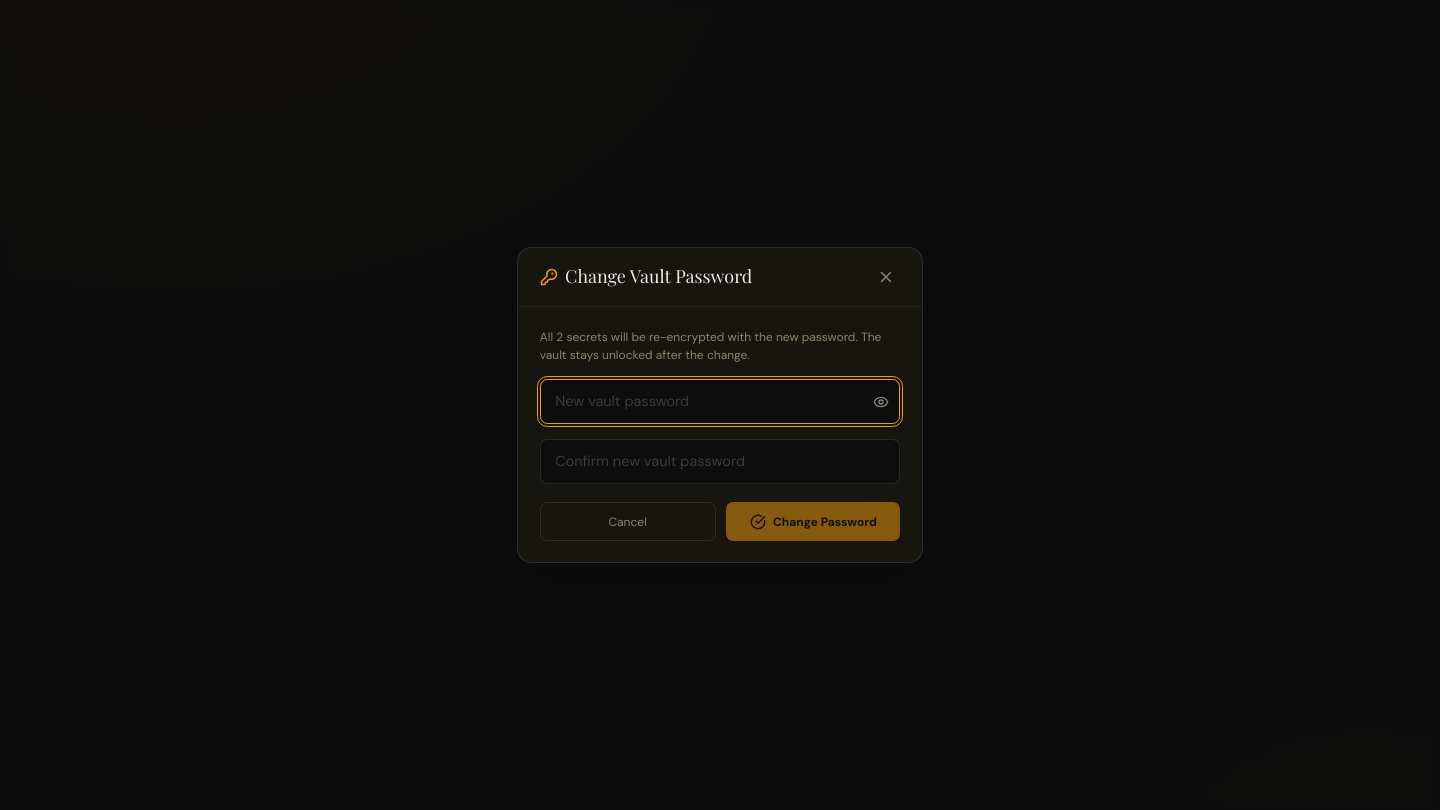
Test: VaultChangePassword Component › validates password length and match
// Too short
Type "short" into the password field with placeholder "New vault password".
click(720, 402); type("short")  # box [540,379,900,424]
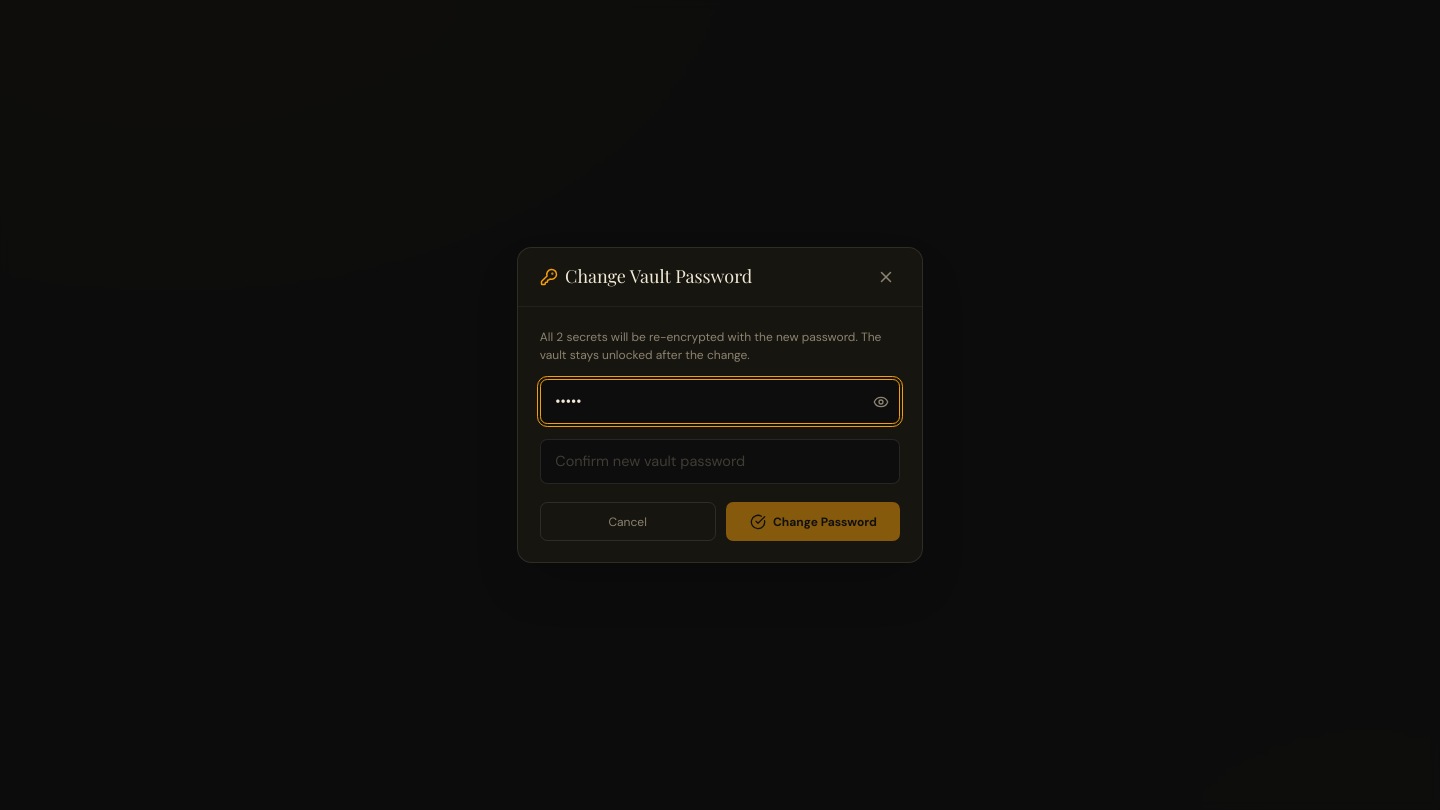
Type "short" into the password field with placeholder "Confirm new vault password".
click(720, 462); type("short")  # box [540,439,900,484]
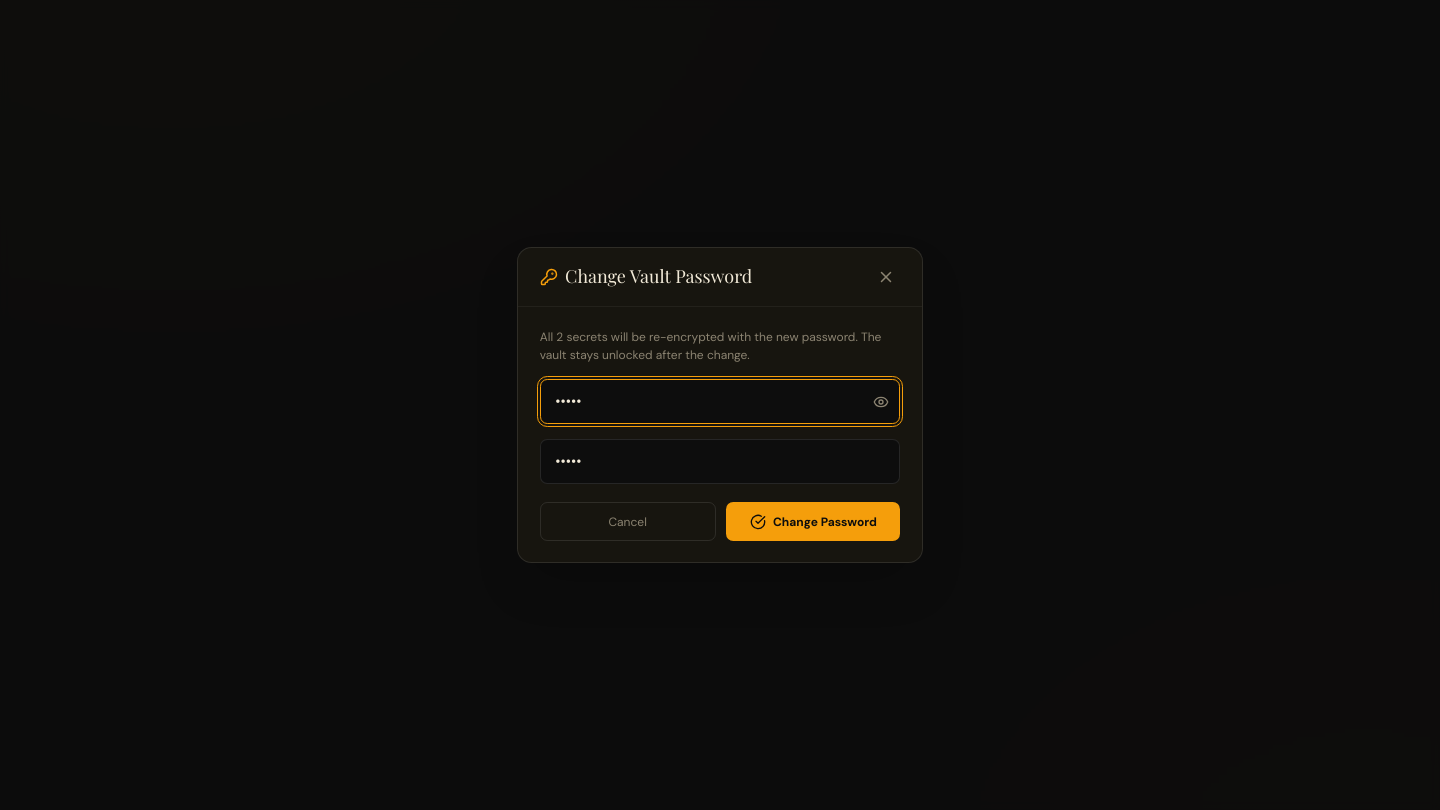
Click the button "Change Password".
click(813, 521)  # box [726,502,900,540]
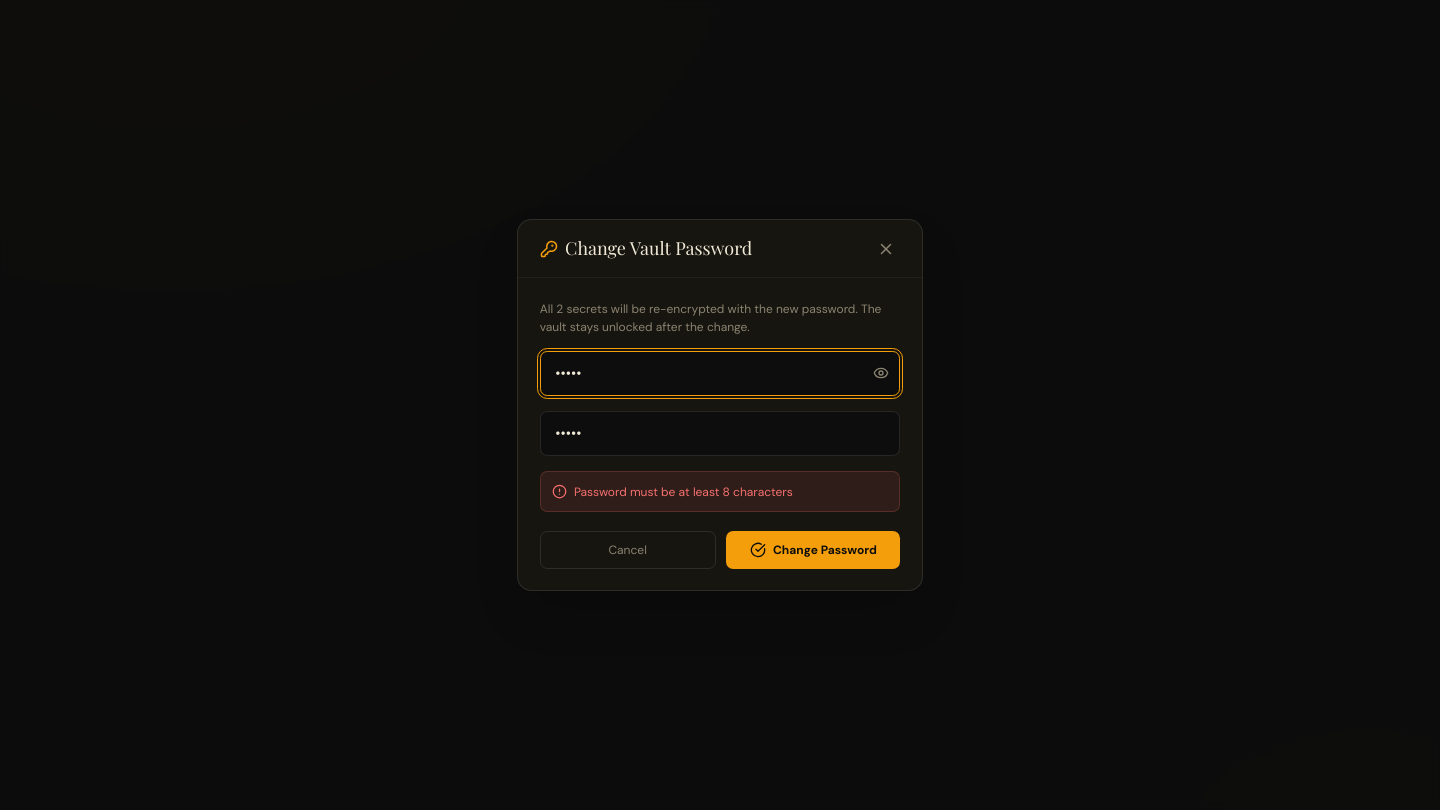
expect the text "Password must be at least 8 characters" is shown: met, box [574,483,793,501]
// Passwords mismatch
Type "newPassword123" into the 1st password field with placeholder "New vault password".
click(720, 373); type("newPassword123")  # box [540,351,900,396]
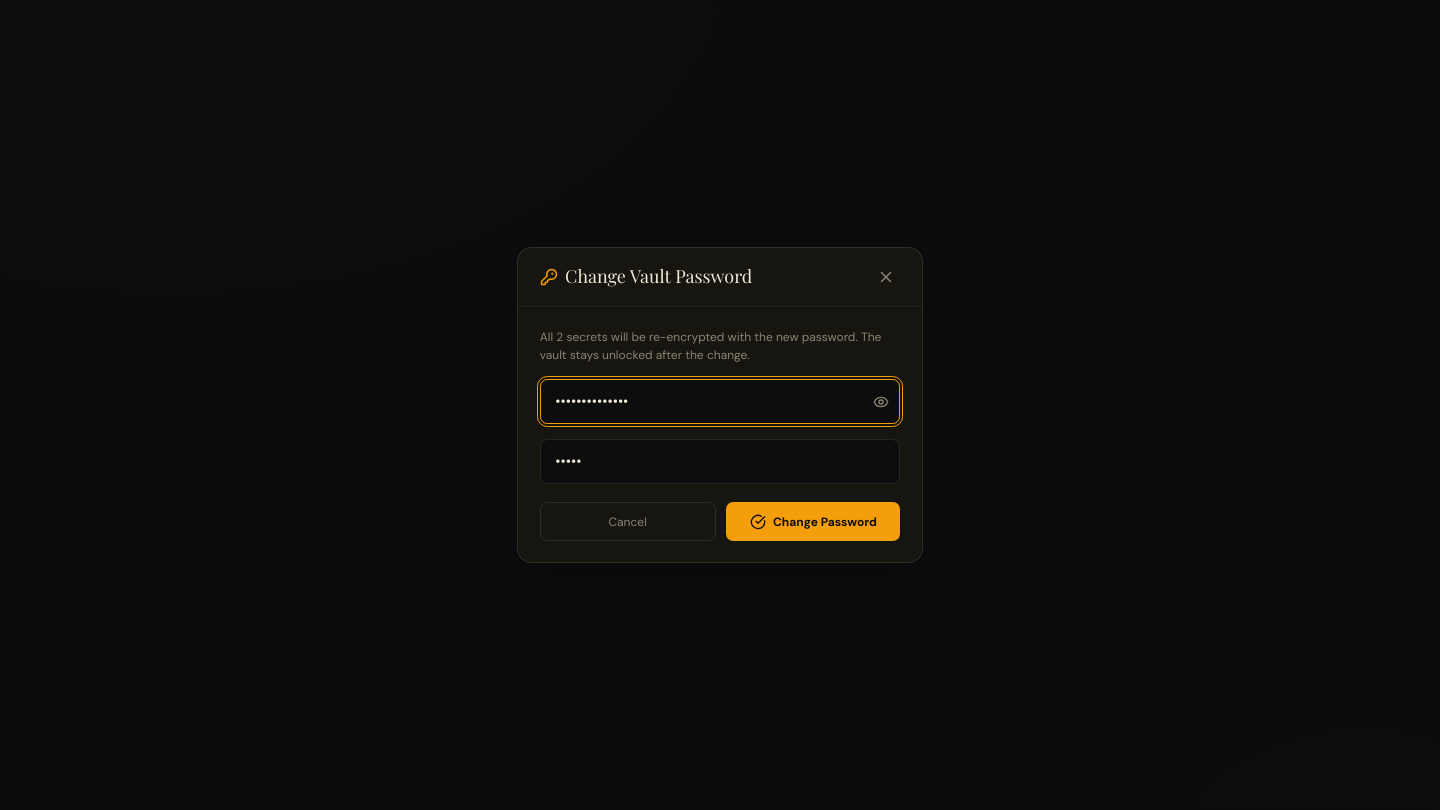
Type "wrongPassword123" into the 2nd password field with placeholder "Confirm new vault password".
click(720, 462); type("wrongPassword123")  # box [540,439,900,484]
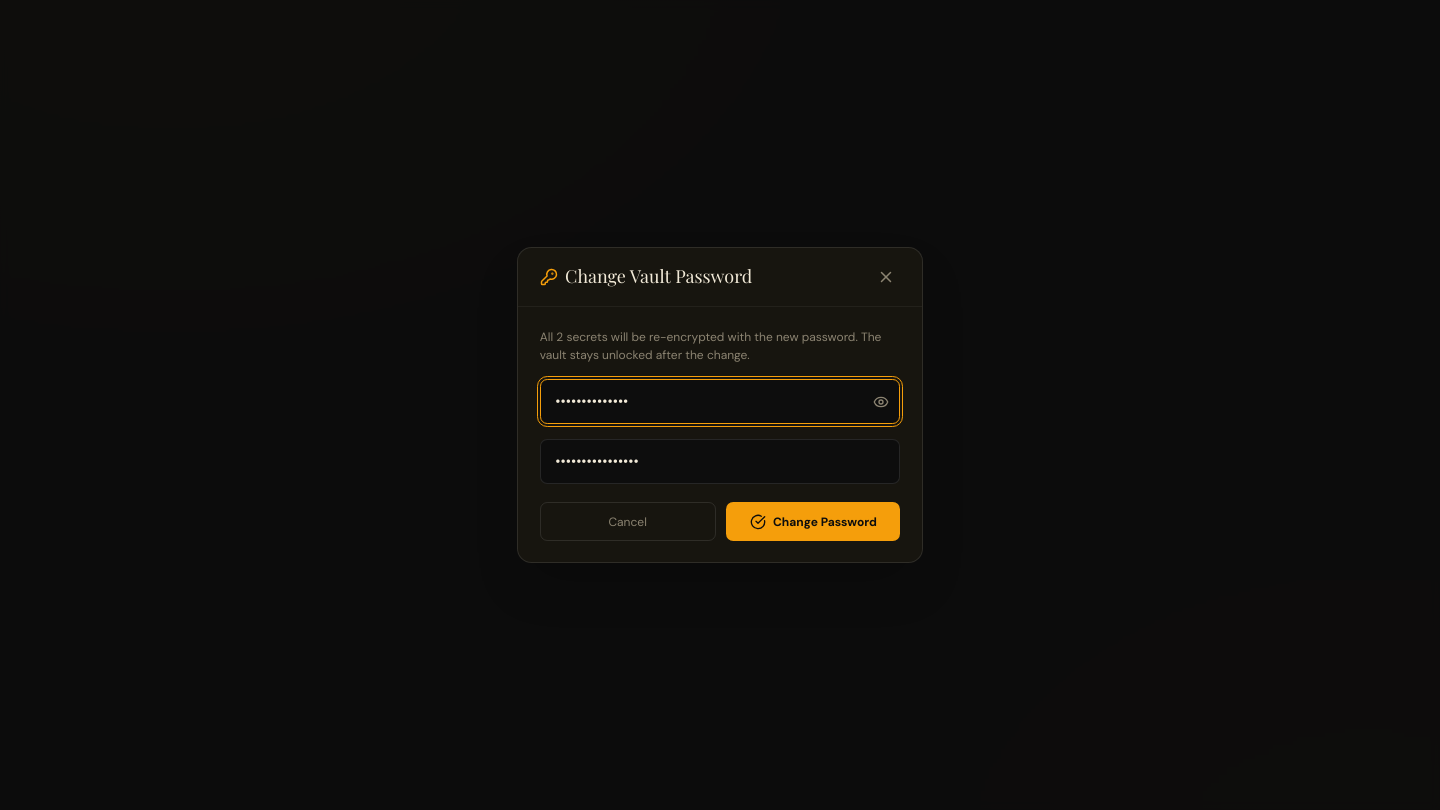
Click the button "Change Password".
click(813, 521)  # box [726,502,900,540]
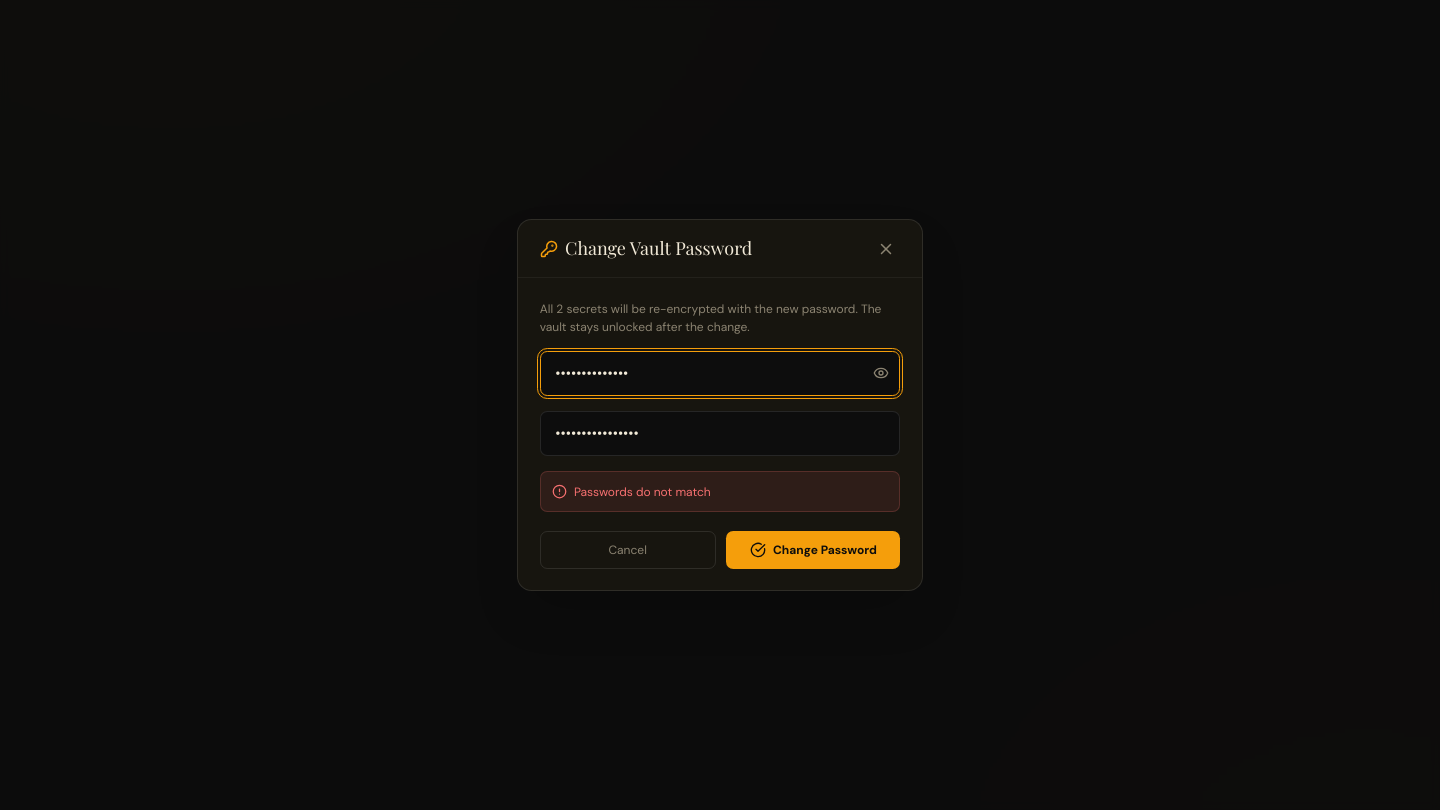
expect the text "Passwords do not match" is shown: met, box [574,483,711,501]
